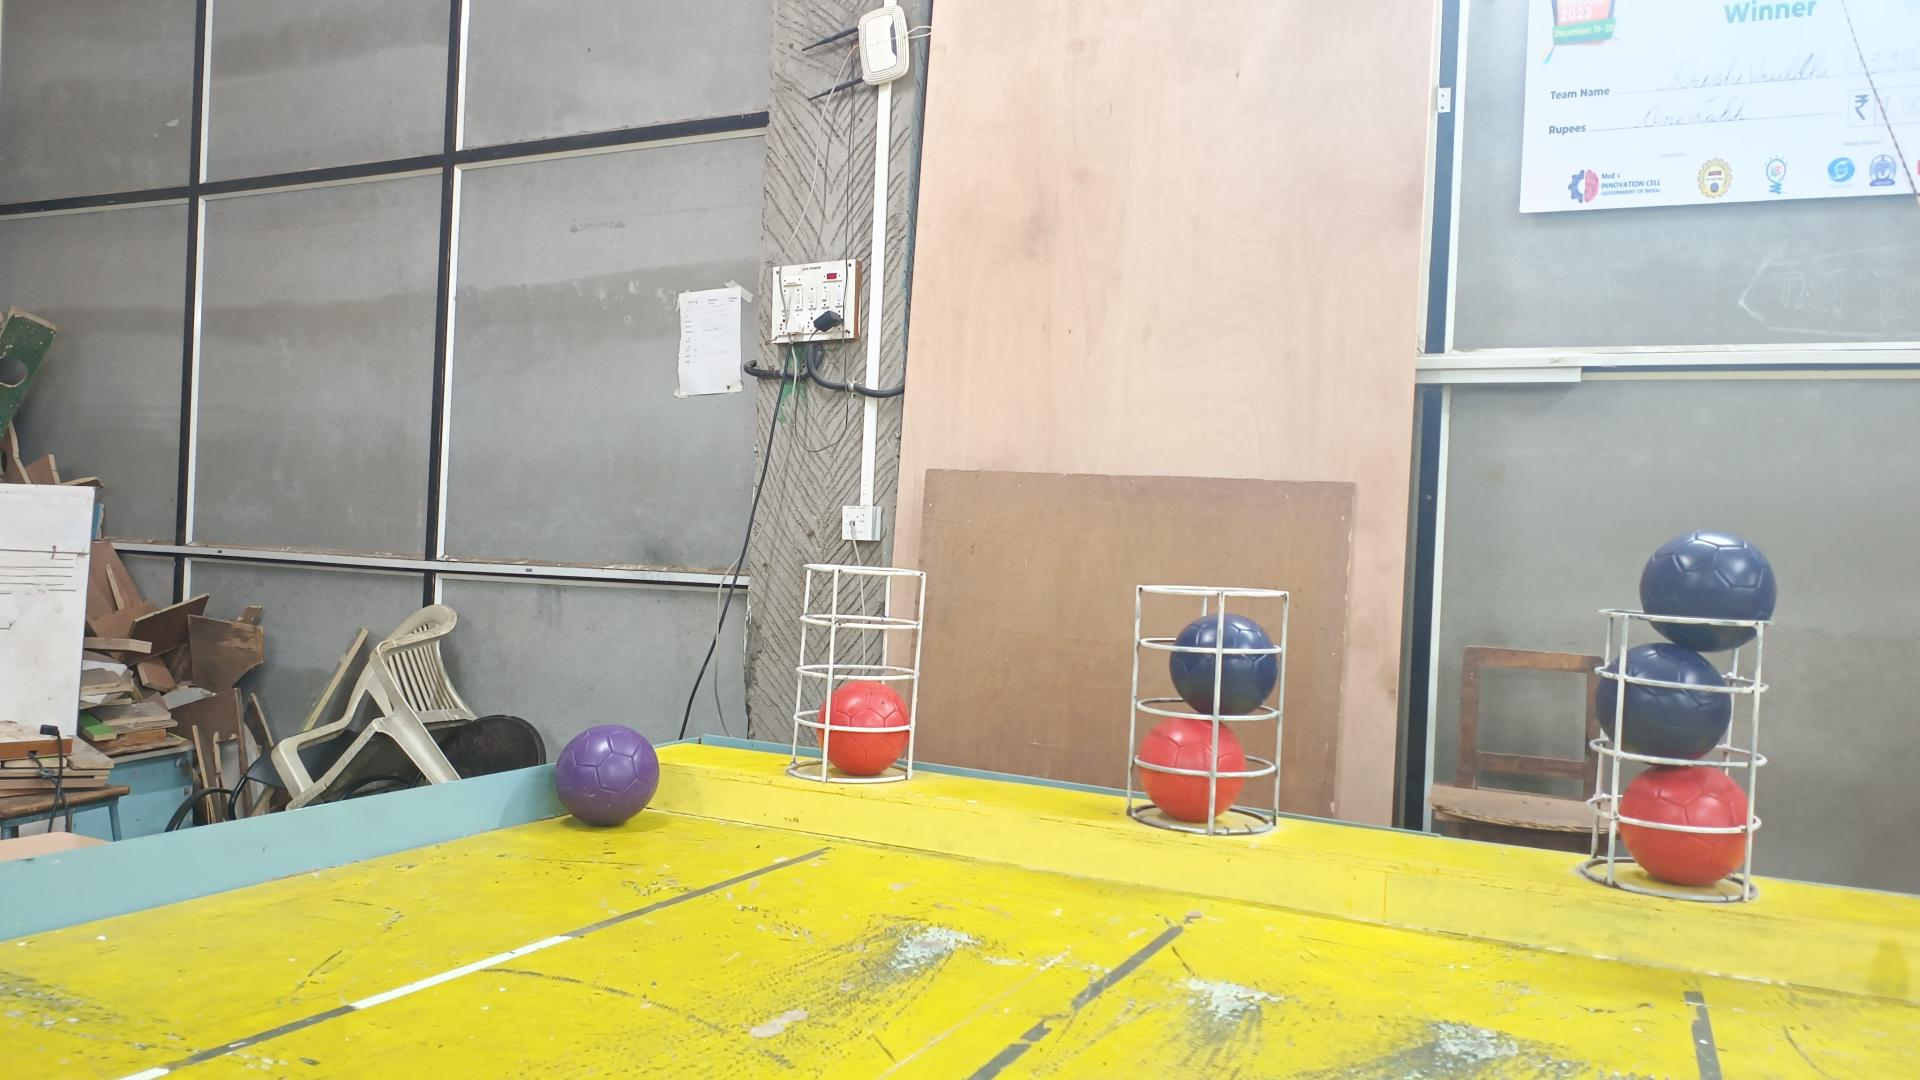dhoka: (1638, 531, 1772, 651), (1593, 647, 1727, 764), (1167, 613, 1280, 715)
laale: (1617, 769, 1747, 889), (1138, 717, 1246, 823), (814, 680, 907, 778)
